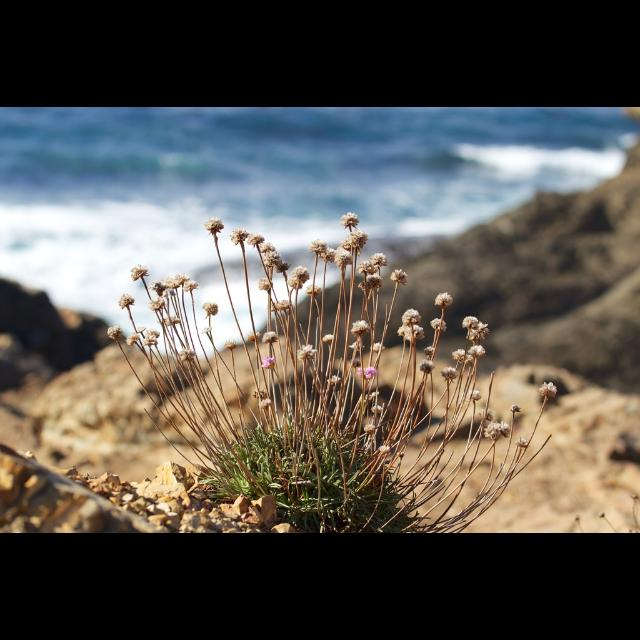Flower: (104, 212, 558, 454)
